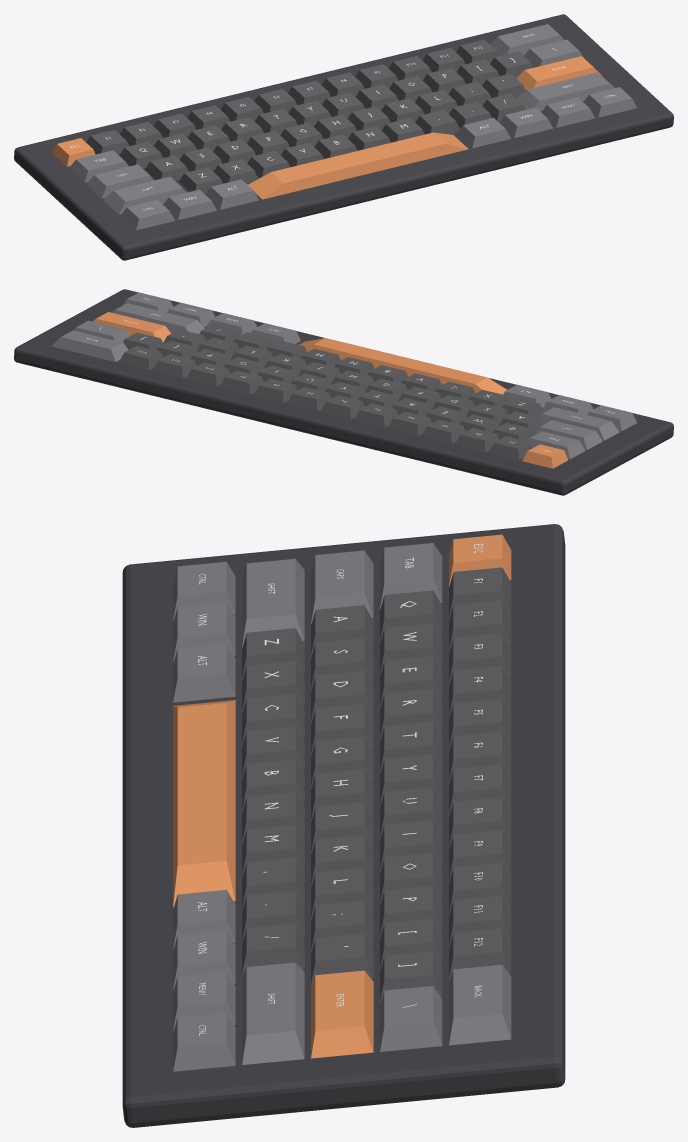
Rendered from keyboard.glb.
3 renders of one model, top to bottom at view 1: azimuth 30°, elevation 25°; view 2: azimuth 150°, elevation 25°; view 3: azimuth 270°, elevation 25°, orthographic. The views are drawn at different scales.
Parts seen in each view (by area): view 1: LowPolyKeyboard; view 2: LowPolyKeyboard; view 3: LowPolyKeyboard.
Boxes of the visible parts, x1,y1,x2,y2 form: LowPolyKeyboard: (14, 14, 673, 260); LowPolyKeyboard: (14, 289, 673, 495); LowPolyKeyboard: (122, 524, 565, 1127).
Bounding box in the file's own units: 4.6 × 0.339 × 1.6.
